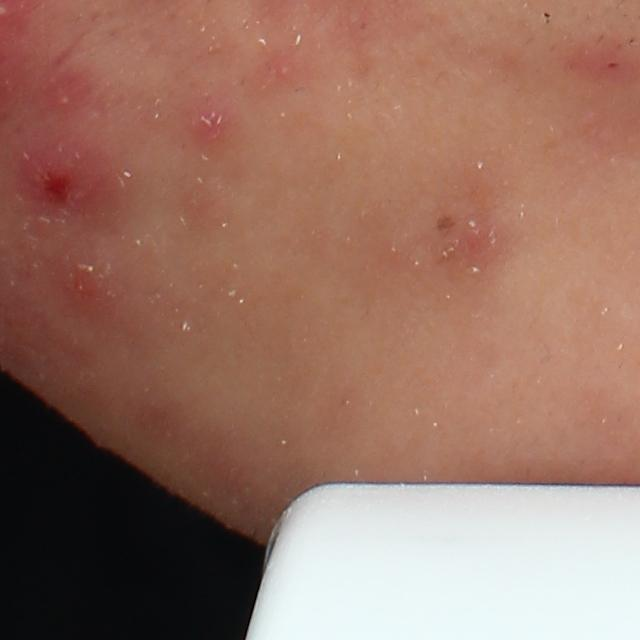papule: (57, 253, 108, 300), (188, 105, 235, 142)
